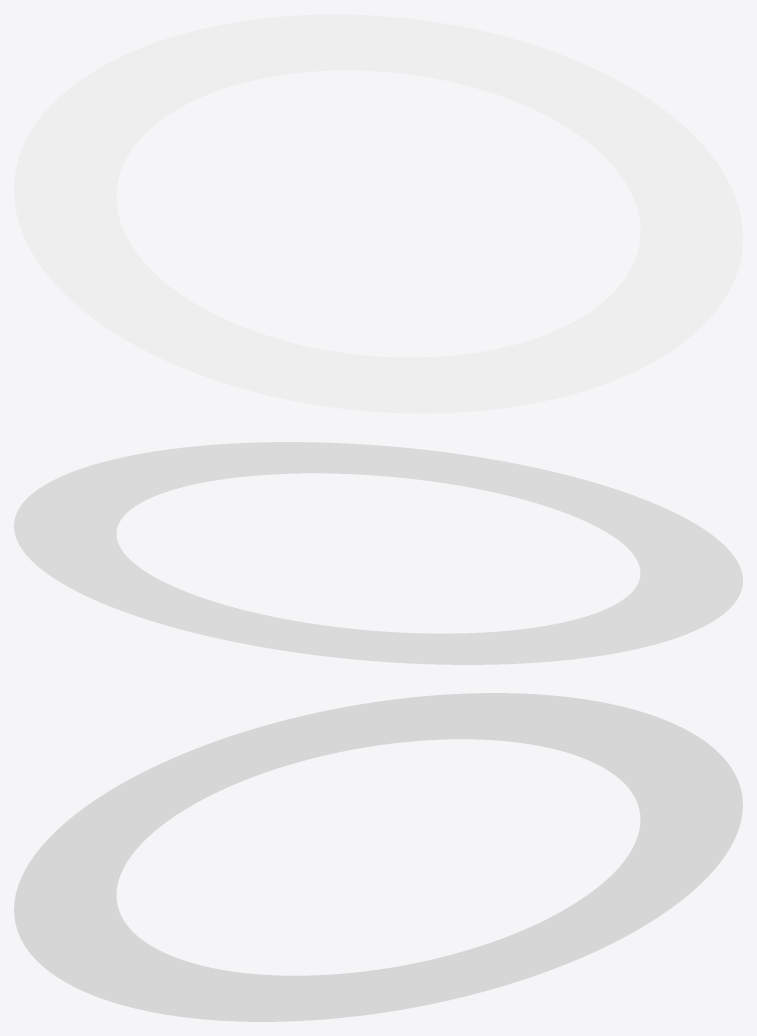
The model's file is DiscWarm.obj.
3 renders of one model, top to bottom at view 1: azimuth 30°, elevation 25°; view 2: azimuth 150°, elevation 25°; view 3: azimuth 270°, elevation 25°, orthographic.
Visible parts, largest first — view 1: DiscWarm; view 2: DiscWarm; view 3: DiscWarm.
Part boxes in pixels (bbox=[...]): DiscWarm: bbox=[14, 14, 742, 413]; DiscWarm: bbox=[14, 442, 742, 664]; DiscWarm: bbox=[14, 693, 742, 1021].
Size of the model in its own units: 64 by 10.01 by 63.21.
Materials: 1 (1 with a texture image).
